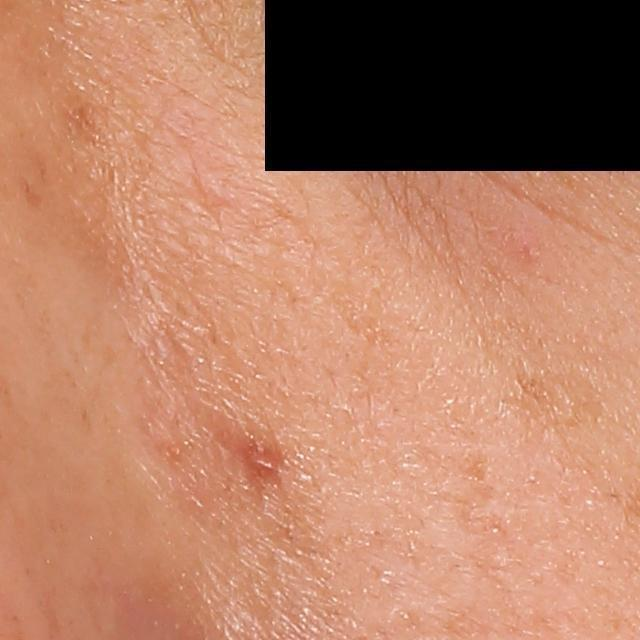melasma: (503, 372, 600, 428), (57, 90, 116, 156), (16, 171, 47, 210)
